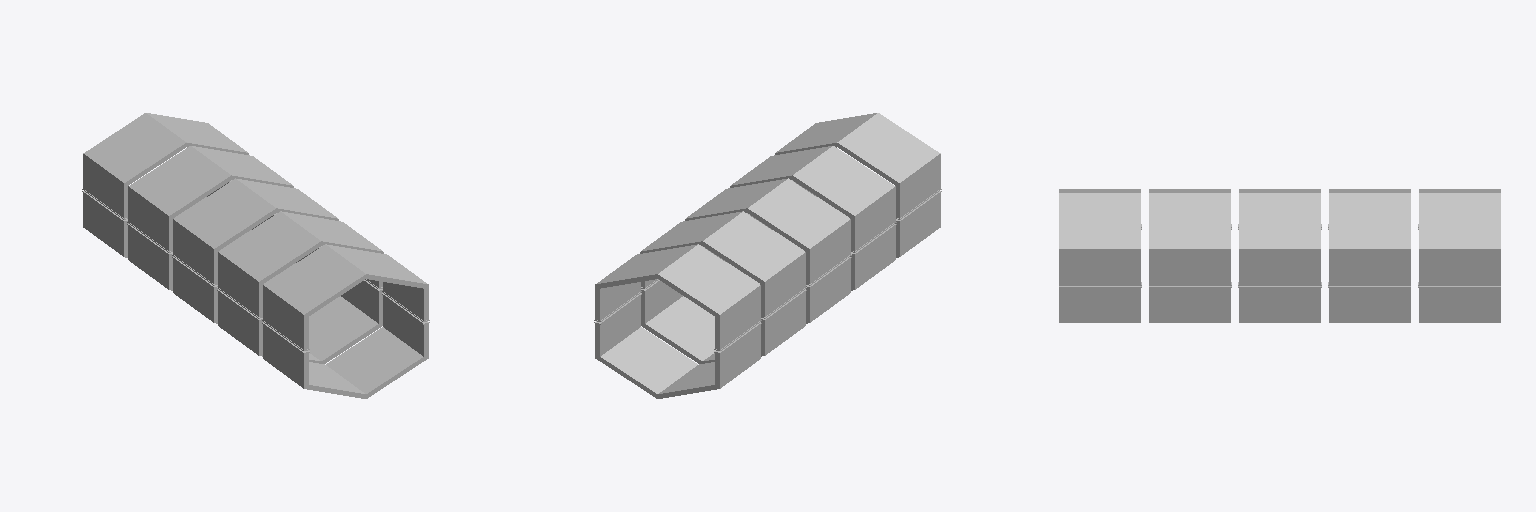
The model's file is Tunnel.obj.
The picture shows the model from 3 angles: view 1: azimuth 30°, elevation 25°; view 2: azimuth 150°, elevation 25°; view 3: azimuth 270°, elevation 25°; orthographic projection.
Visible parts, largest first — view 1: Cube.001; view 2: Cube.001; view 3: Cube.001.
Boxes of the visible parts, x1=… form: Cube.001: x1=82, y1=113, x2=429, y2=398; Cube.001: x1=594, y1=113, x2=941, y2=398; Cube.001: x1=1059, y1=189, x2=1500, y2=322.
Bounding box in the file's own units: 5.48 × 5.21 × 16.68.